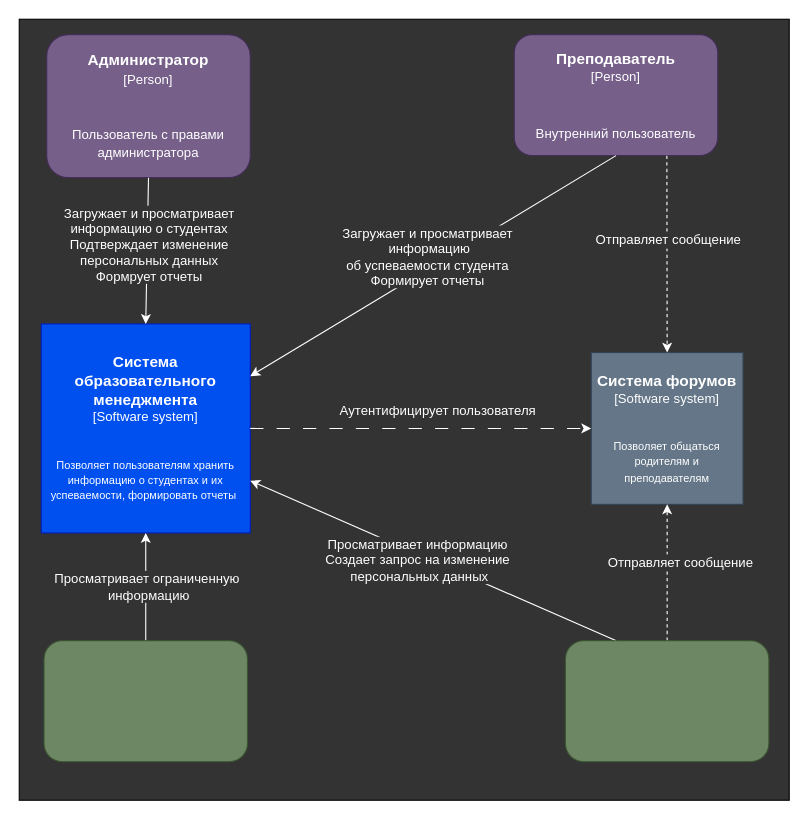
The diagram is 809 pixels wide and 820 high, and some of its shapes have lost their labels. The shapes that lost their labels are listed below. From the top down, each one's centre as x and y in pixels, then its label:
pixel 145 701: Студент до 18 [Person] Внешний пользователь
pixel 666 701: Родитель, Студент старше 18 [Person] Внешний пользователь
